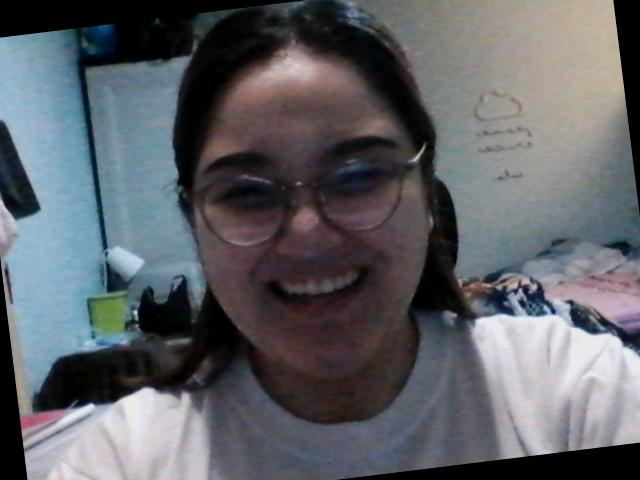senang: (167, 54, 448, 394)
